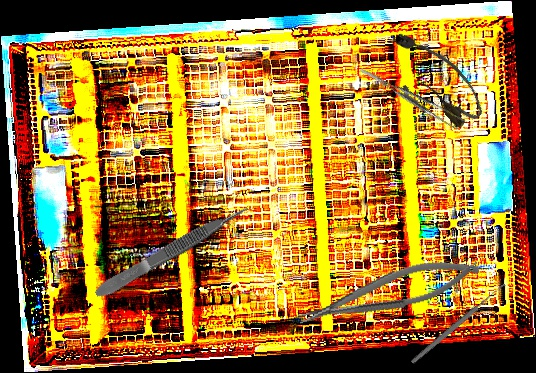Cannula: (387, 18, 491, 133)
Needle Holder: (293, 250, 483, 333)
Surgical Spoon: (409, 281, 508, 366)
Tissue Forceps: (91, 201, 253, 302), (359, 51, 466, 141)
